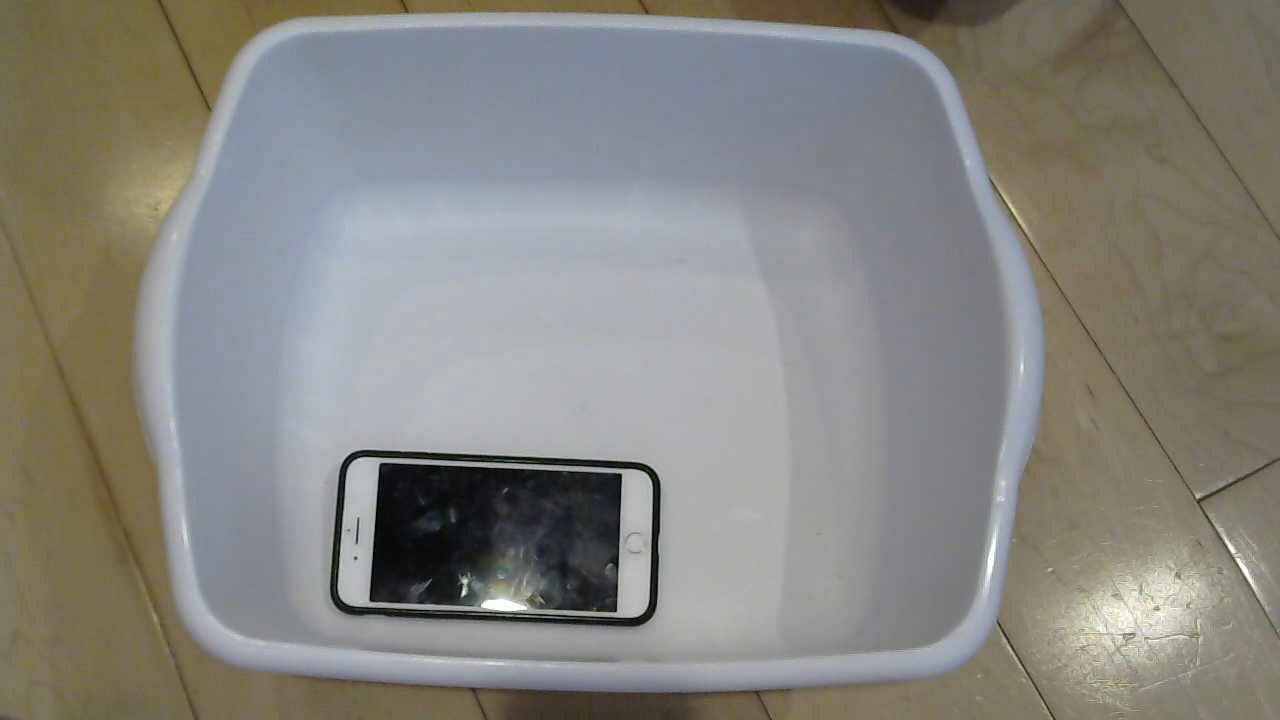phone: (303, 456, 677, 649)
